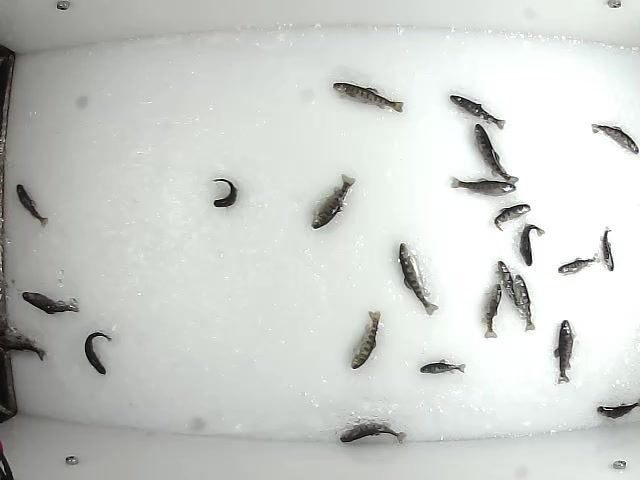fish: (396, 241, 440, 318), (473, 122, 520, 187), (309, 173, 358, 232), (330, 81, 406, 115), (447, 92, 507, 132), (347, 308, 384, 370), (493, 260, 527, 318), (587, 120, 640, 156), (335, 421, 409, 444), (15, 181, 50, 228), (447, 175, 518, 198), (513, 272, 538, 333), (18, 292, 81, 316), (553, 318, 575, 386), (82, 332, 116, 376), (491, 198, 533, 232), (481, 282, 504, 339), (518, 221, 547, 265), (555, 252, 599, 277), (416, 357, 468, 378), (594, 397, 640, 420), (210, 175, 241, 209), (599, 225, 618, 274)
